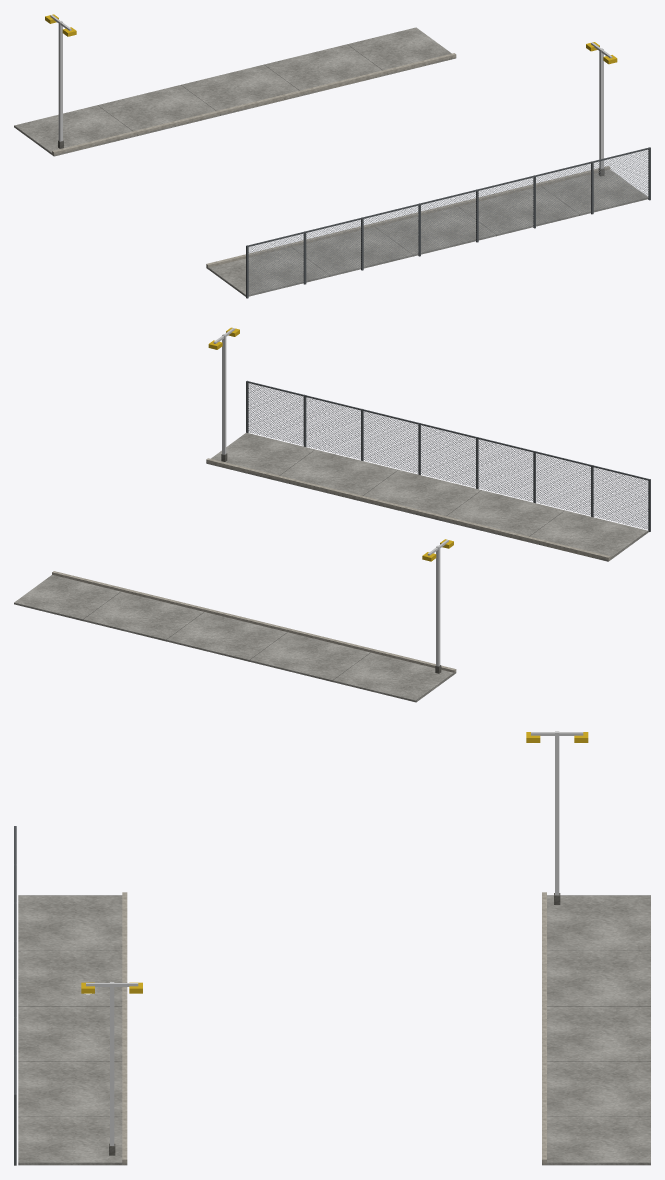
The model's file is rampa.glb.
The picture shows the model from 3 angles, top to bottom: view 1: azimuth 30°, elevation 25°; view 2: azimuth 150°, elevation 25°; view 3: azimuth 270°, elevation 25°; orthographic projection. The views are drawn at different scales.
Visible parts, largest first — view 1: dum; view 2: dum; view 3: dum.
Part boxes in pixels (box(x1,y1,x2,y2)): dum: box(14, 14, 650, 298); dum: box(14, 327, 650, 702); dum: box(14, 731, 650, 1165).
Size of the model in its own units: 14.56 by 4.4 by 14.6.
Materials: 3 (2 with a texture image).
